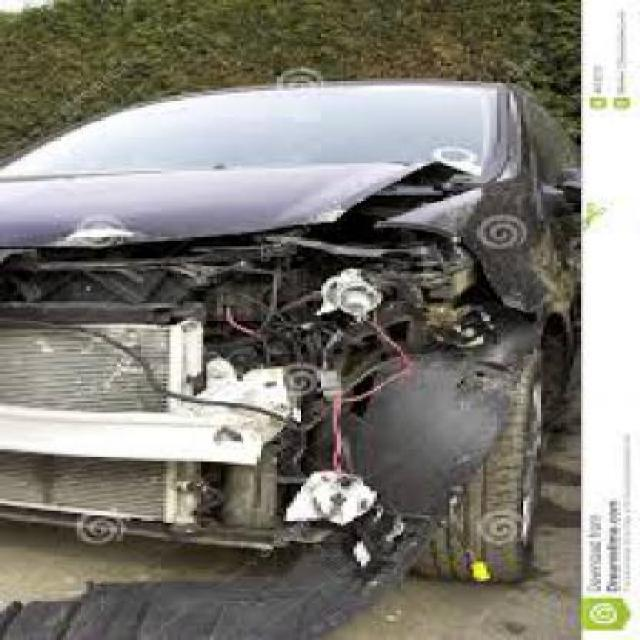damaged-hood: (1, 170, 484, 258)
